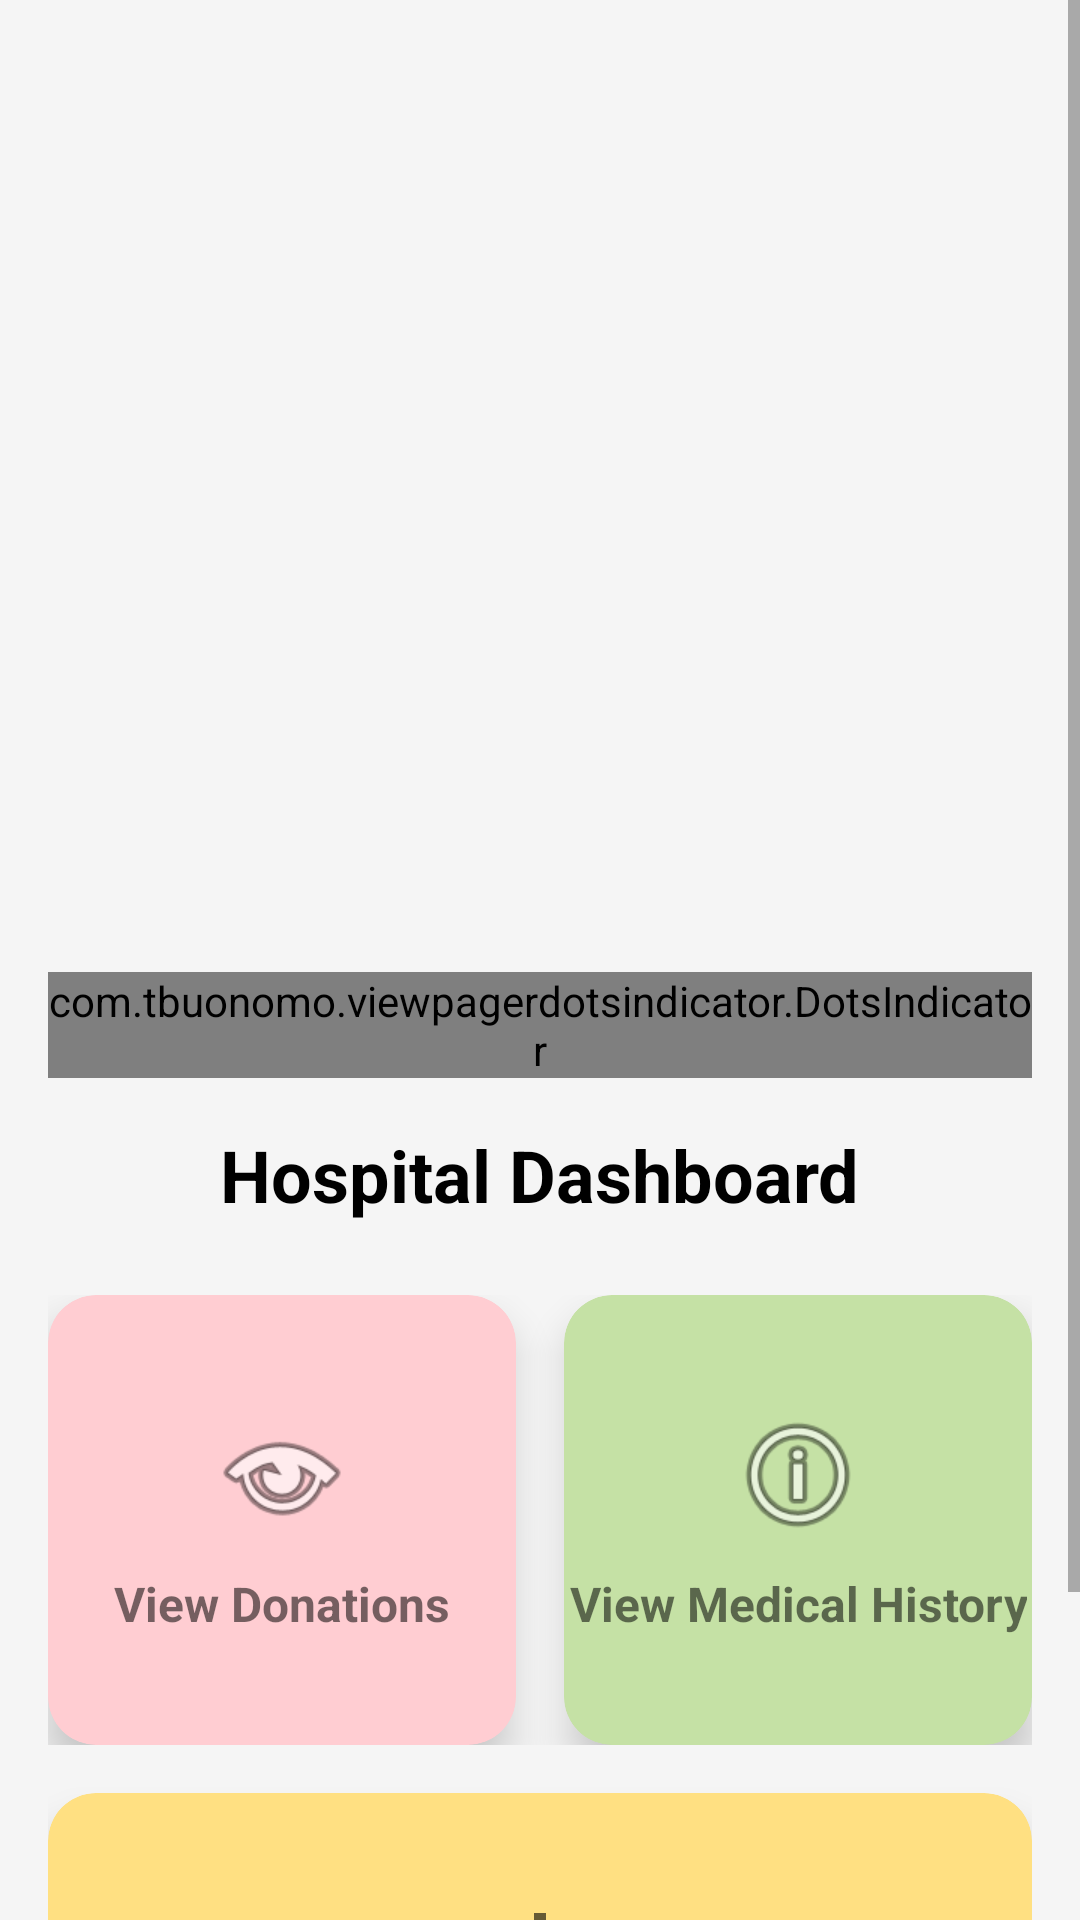

Where icons sit on this 1080 x 1920 app screen, as (x1, y1, x2, y2):
info details: (746, 1423, 850, 1527)
